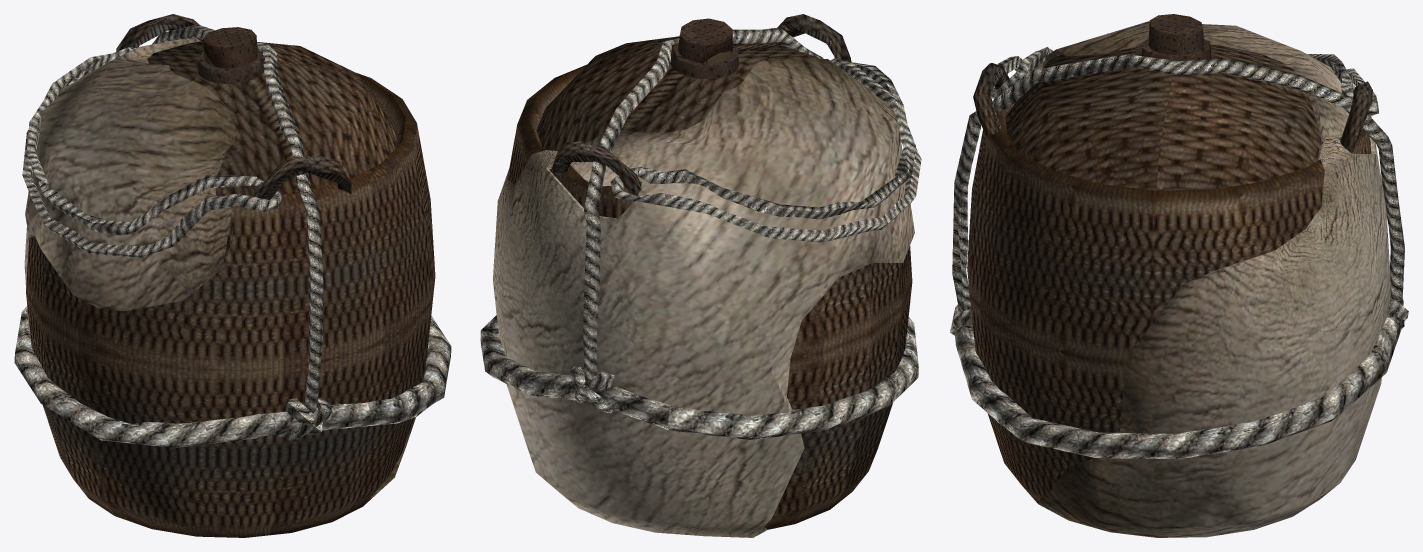
The model's file is fish_basket_1.FBX.
3 views of the same model, side by side, from view 1: azimuth 30°, elevation 25°; view 2: azimuth 150°, elevation 25°; view 3: azimuth 270°, elevation 25° (orthographic). The views are drawn at different scales.
Parts seen in each view (by area): view 1: fish_basket_1; view 2: fish_basket_1; view 3: fish_basket_1.
Boxes of the visible parts, x1,y1,x2,y2 form: fish_basket_1: (14, 14, 451, 537); fish_basket_1: (480, 14, 921, 537); fish_basket_1: (950, 14, 1408, 537).
Bounding box in the file's own units: 23.51 × 23.93 × 25.99.
